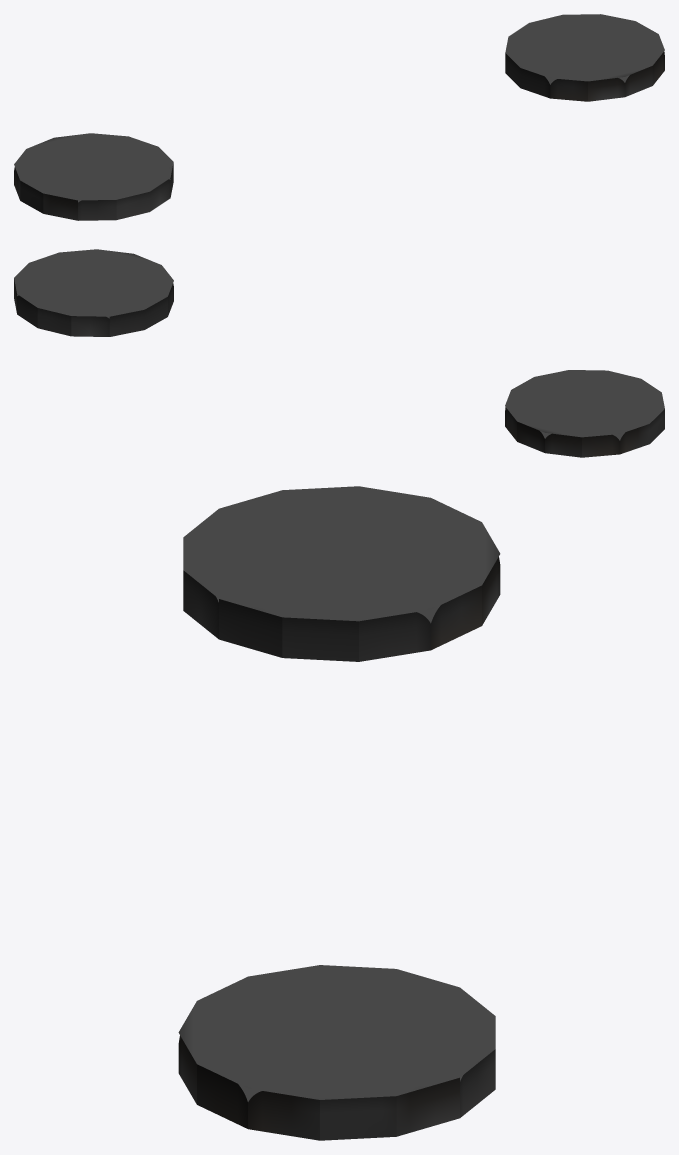
The model's file is air_spring_upper.obj.
3 views of the same model, one above another, from view 1: azimuth 30°, elevation 25°; view 2: azimuth 150°, elevation 25°; view 3: azimuth 270°, elevation 25° (orthographic). The views are drawn at different scales.
Parts seen in each view (by area): view 1: air_spring_upper; view 2: air_spring_upper; view 3: air_spring_upper.
Boxes of the visible parts, x1=… form: air_spring_upper: x1=14, y1=14, x2=664, y2=220; air_spring_upper: x1=14, y1=249, x2=664, y2=457; air_spring_upper: x1=178, y1=486, x2=500, y2=1140.
Bounding box in the file's own units: 2.93 × 0.0906 × 0.6501.
